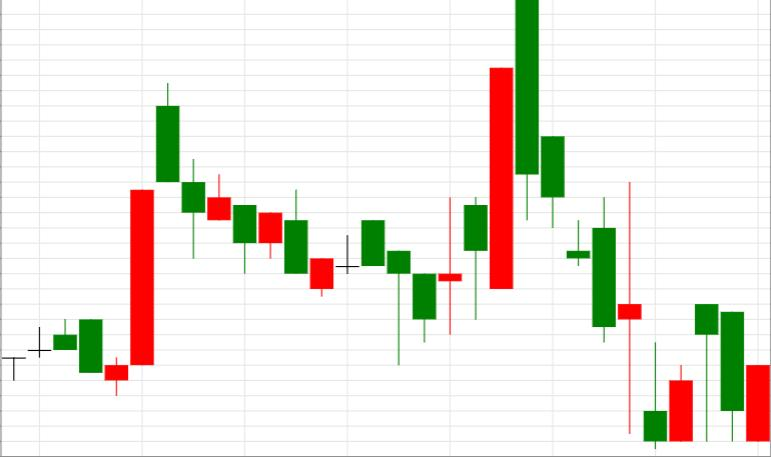inverse_hammer_rise: (516, 0, 667, 449)
